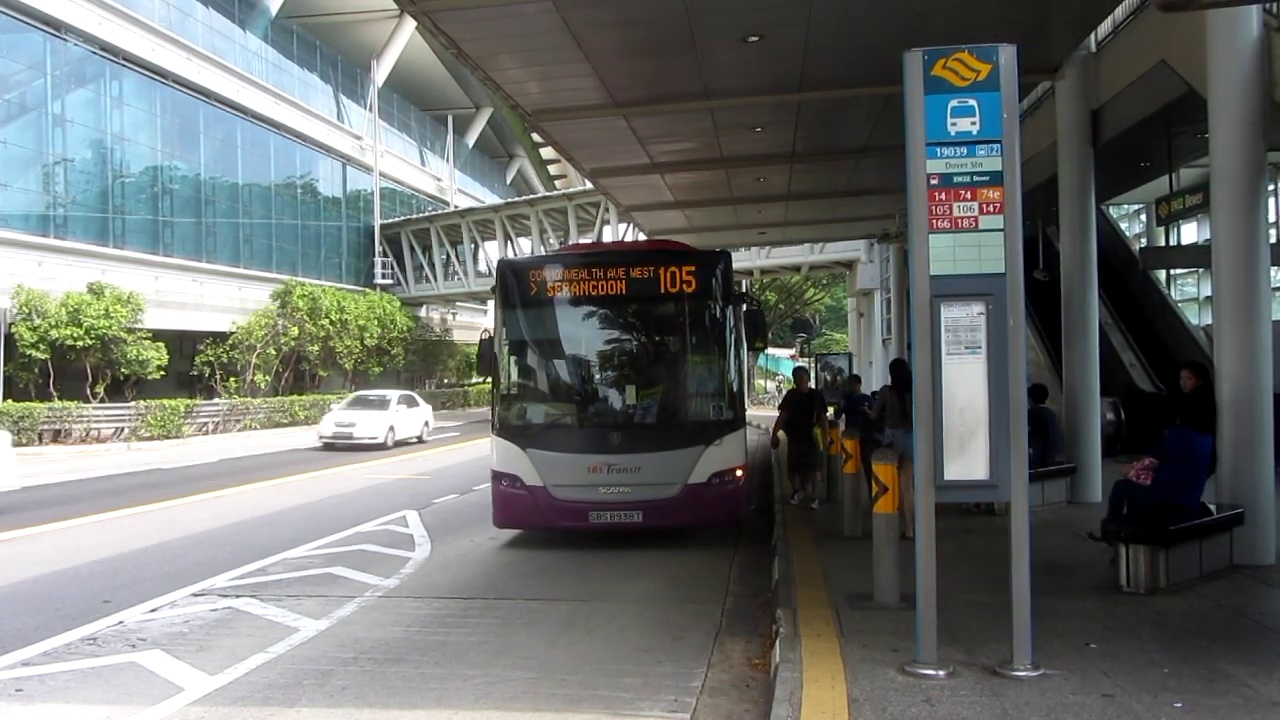bus panel: (526, 263, 700, 298)
